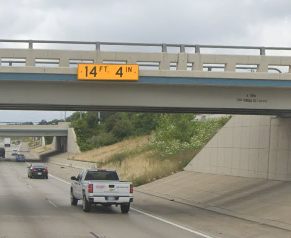1: (82, 63, 90, 78)
4: (113, 64, 125, 80), (88, 63, 98, 80)
overheadsign: (75, 62, 139, 82)
